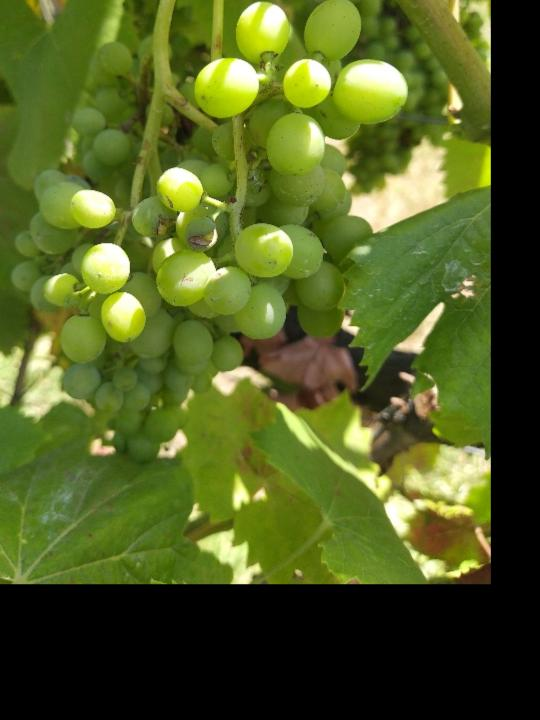grape: (10, 0, 409, 464)
